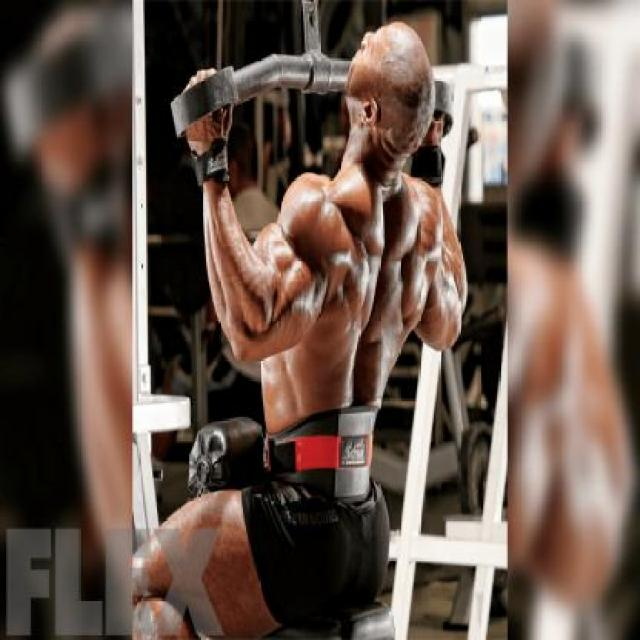Lat Pull Down: (132, 1, 467, 640)
